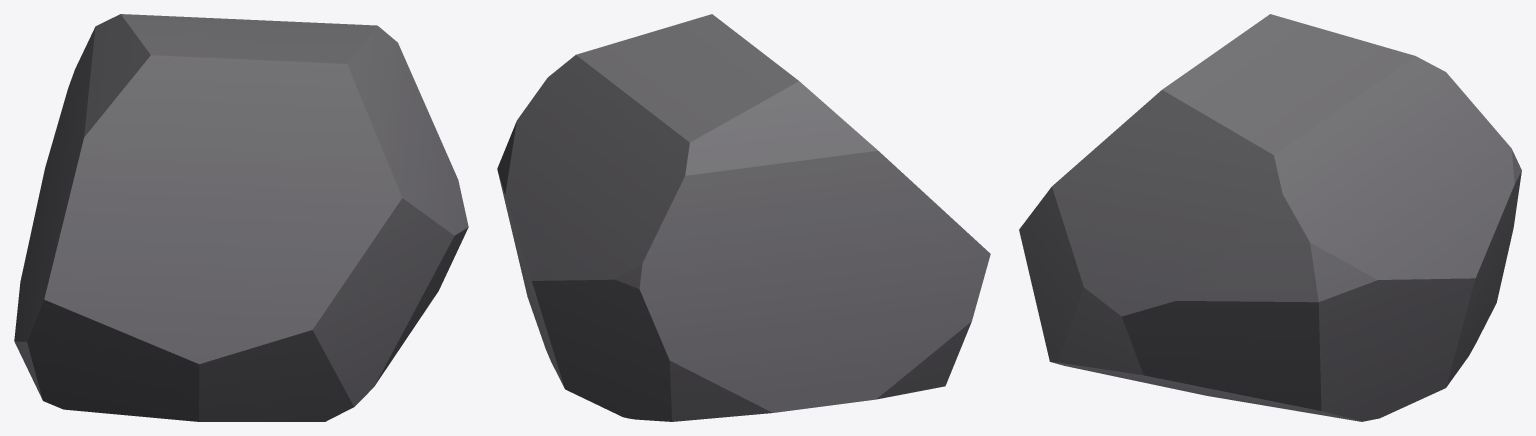
Rendered from Mesh_Nature_Rock_04.FBX.
3 renders of one model, left to right at view 1: azimuth 30°, elevation 25°; view 2: azimuth 150°, elevation 25°; view 3: azimuth 270°, elevation 25°, orthographic. The views are drawn at different scales.
Parts seen in each view (by area): view 1: Mesh_Nature_Rock_04; view 2: Mesh_Nature_Rock_04; view 3: Mesh_Nature_Rock_04.
Boxes of the visible parts, bbox=[...] form: Mesh_Nature_Rock_04: bbox=[14, 14, 468, 421]; Mesh_Nature_Rock_04: bbox=[497, 14, 990, 421]; Mesh_Nature_Rock_04: bbox=[1019, 14, 1521, 421].
Size of what is drawn, in the model's own units: 143 by 139 by 107.
